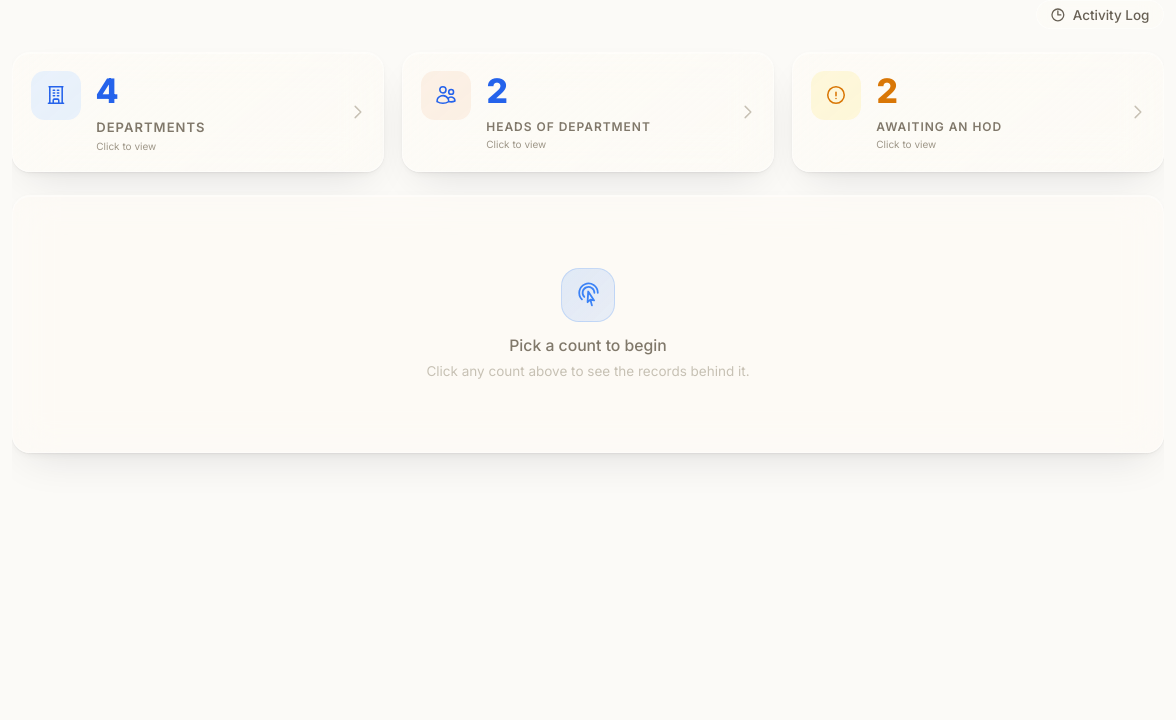
it: AdminPanel â€” Awaiting an HOD › opens the assign form in place and keeps the filtered list on screen
Click the button "2 Awaiting an HOD Click to view". click: (836, 95)
box: [792, 52, 1164, 172]
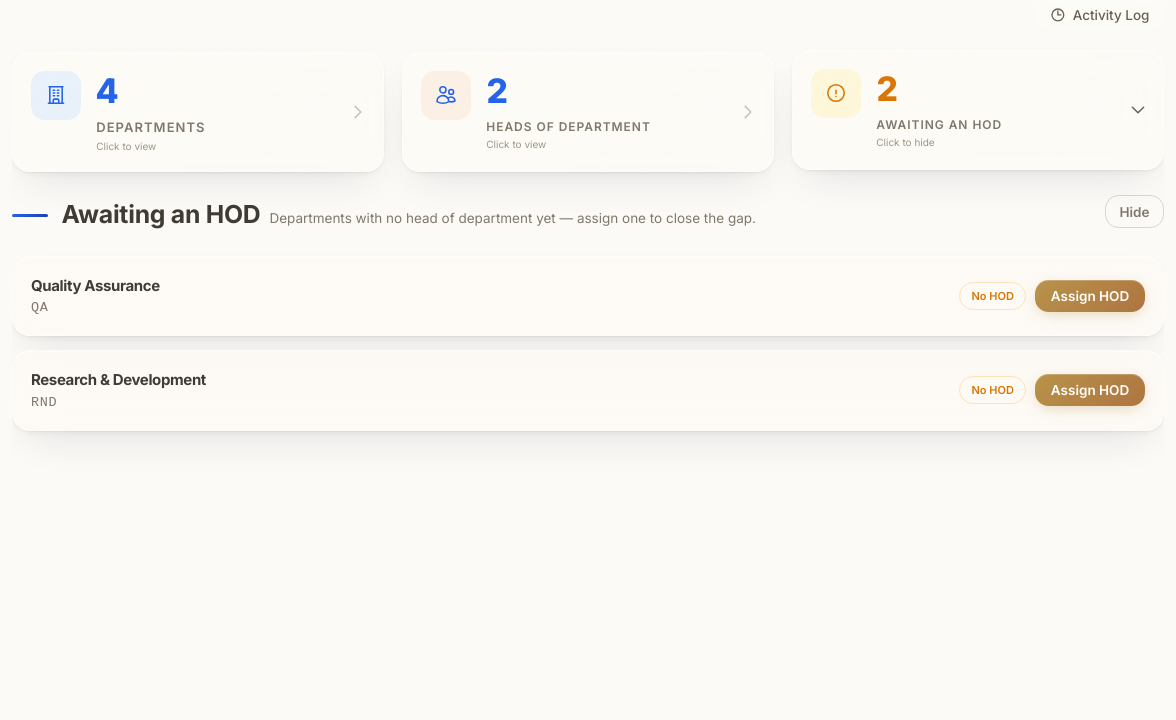
Click the button with aria-label "assign a head of department to Quality Assurance". click: (1090, 296)
box: [1035, 280, 1145, 312]
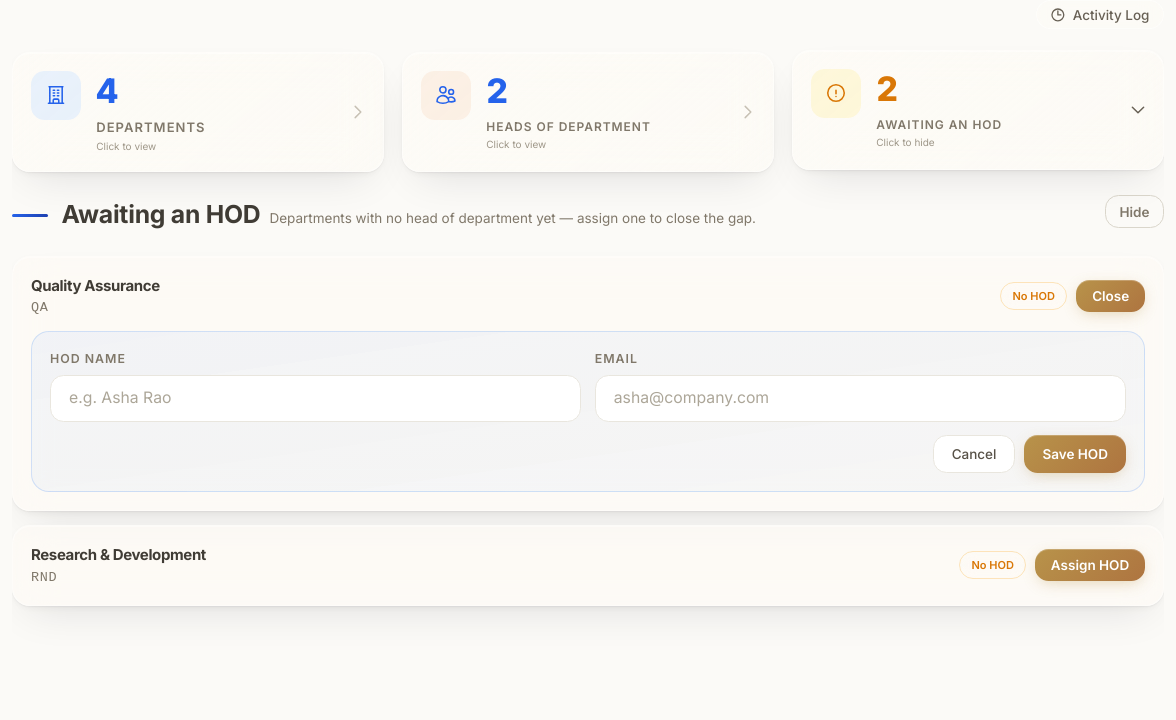
Expected: the text "Research & Development" is shown, [31, 544, 206, 566]
Expected: the field labelled "HOD Name" is shown, [50, 374, 581, 422]
